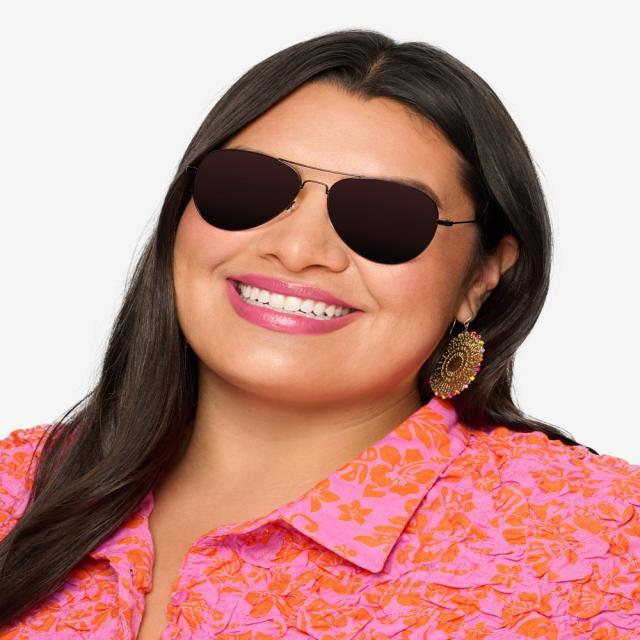2_gafas: (184, 147, 483, 266)
